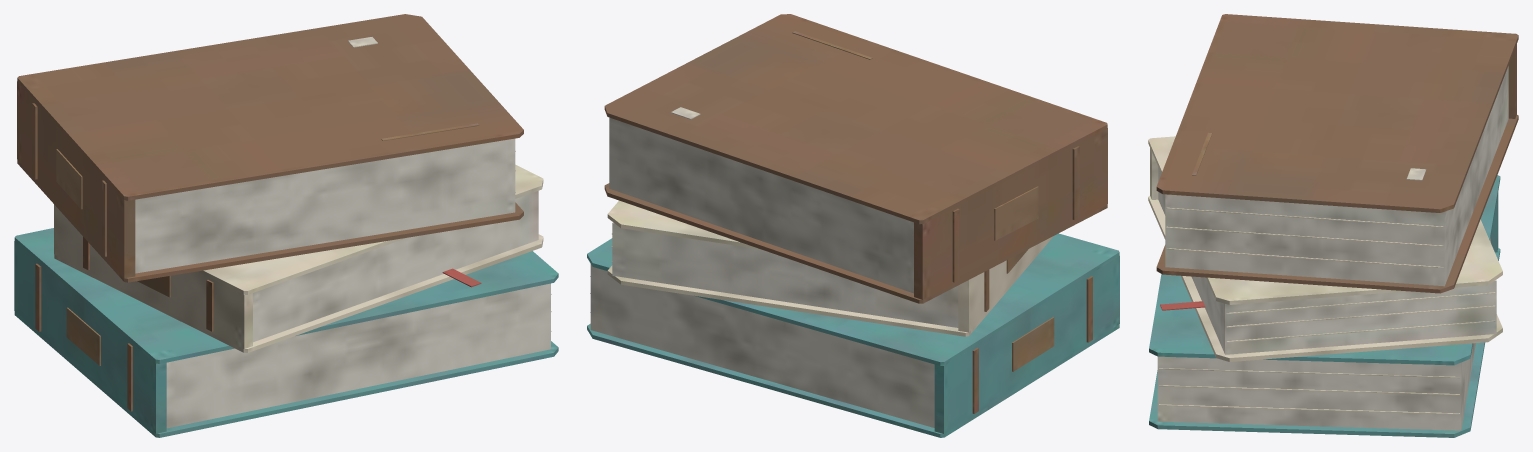
The model's file is Q15_book_piles_v2.glb.
3 views of the same model, side by side, from view 1: azimuth 30°, elevation 25°; view 2: azimuth 150°, elevation 25°; view 3: azimuth 270°, elevation 25° (orthographic). The views are drawn at different scales.
Parts seen in each view (by area): view 1: Battered lower board; view 2: Battered lower board; view 3: Battered lower board.
Part boxes in pixels (x1,y1,x2,y2): Battered lower board: (14, 14, 558, 437); Battered lower board: (587, 14, 1119, 437); Battered lower board: (1148, 14, 1518, 437).
Size of the model in its own units: 0.4 by 0.2072 by 0.3098.
6 materials, 6 textured.
